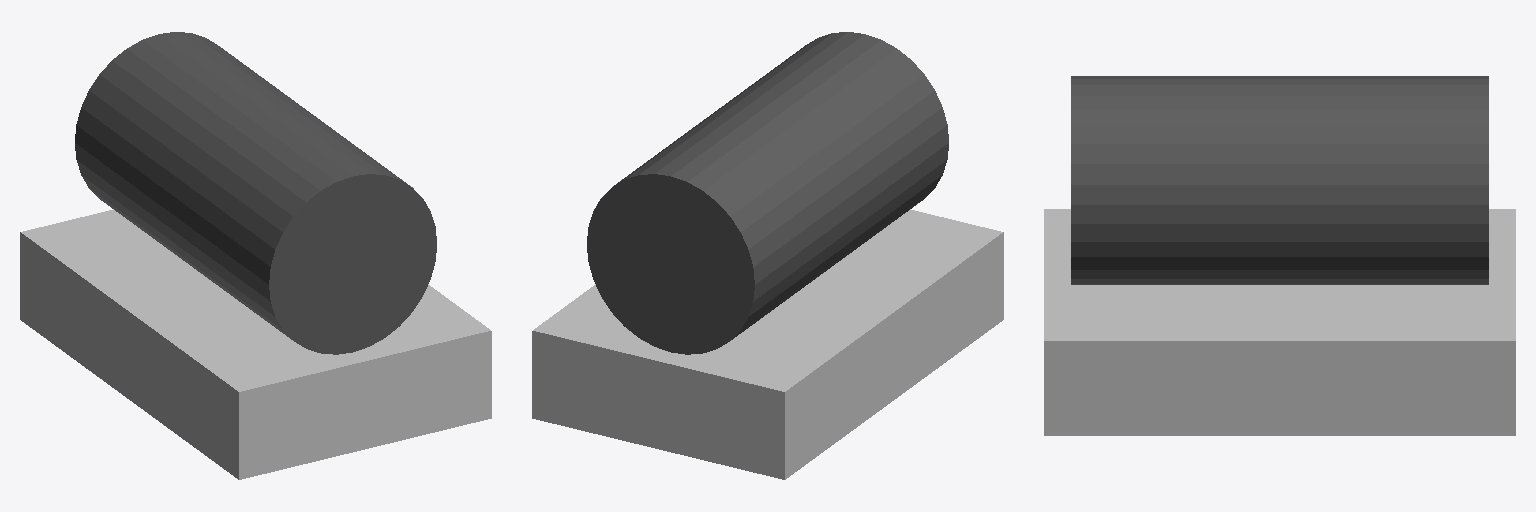
The robot description file, URDF, robot "bumblebee":
<?xml version="1.0"?>
<robot name="bumblebee">
  <link name="base_link">
    <visual>
      <geometry>
	<box size="0.6 0.9 0.2" />
      </geometry>
      <material name="white">
	<color rgba="0.8 0.8 0.8 1" />
      </material>
    </visual>
    <collision>
      <geometry>
	<box size="0.6 0.9 0.2" />
      </geometry>
    </collision>
  </link>

  <link name="body_link">
    <visual>
      <geometry>
	<cylinder length="0.8" radius="0.2" />
      </geometry>
      <origin xyz="0 0 0.2" rpy="1.57075 0 0" />
      <material name="gray">
	<color rgba="0.4 0.4 0.4 1" />
      </material>
    </visual>
    <collision>
      <geometry>
	<cylinder length="0.8" radius="0.2" />
      </geometry>
      <origin xyz="0 0 0.2" rpy="1.57075 0 0" />
    </collision>
  </link>

  <joint name="body_to_base" type="fixed">
    <parent link="base_link" />
    <child link="body_link" />
    <origin xyz="0 0 0.1" />
  </joint>
</robot>

--- What the picture shows (computed from the rendered views, not written in the file) ---
The picture shows the robot from 3 angles, left to right: view 1: azimuth 30°, elevation 25°; view 2: azimuth 150°, elevation 25°; view 3: azimuth 270°, elevation 25°; orthographic projection.
Robot: bumblebee — 2 links, 1 joints (1 fixed); root link base_link; default pose: every joint at zero.
Visible links, largest first — view 1: body_link, base_link; view 2: body_link, base_link; view 3: body_link, base_link.
Link boxes in pixels (x1,y1,x2,y2): body_link: [75, 32, 436, 354]; base_link: [20, 209, 491, 479]; body_link: [587, 32, 948, 354]; base_link: [532, 209, 1003, 479]; body_link: [1071, 76, 1488, 284]; base_link: [1044, 209, 1515, 435].
Size in the robot's own frame: 0.6 by 0.9 by 0.6 metres.
Geometry: primitives only (box / cylinder / sphere), no mesh files.